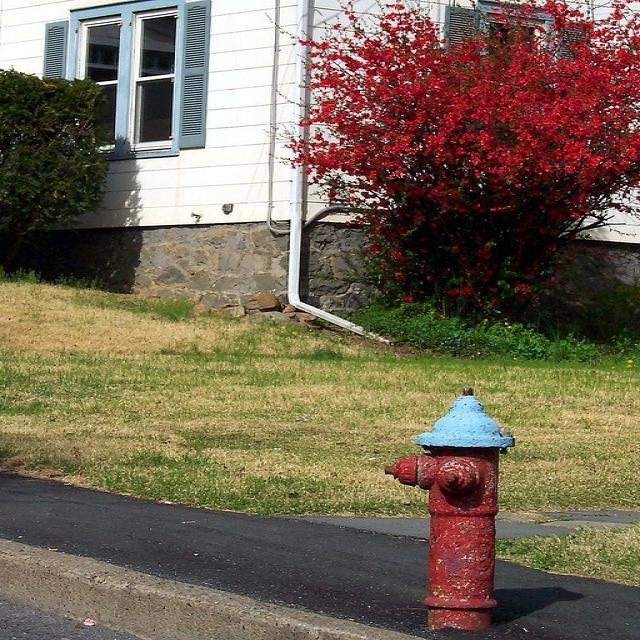fire_hydrant: (390, 382, 530, 634)
